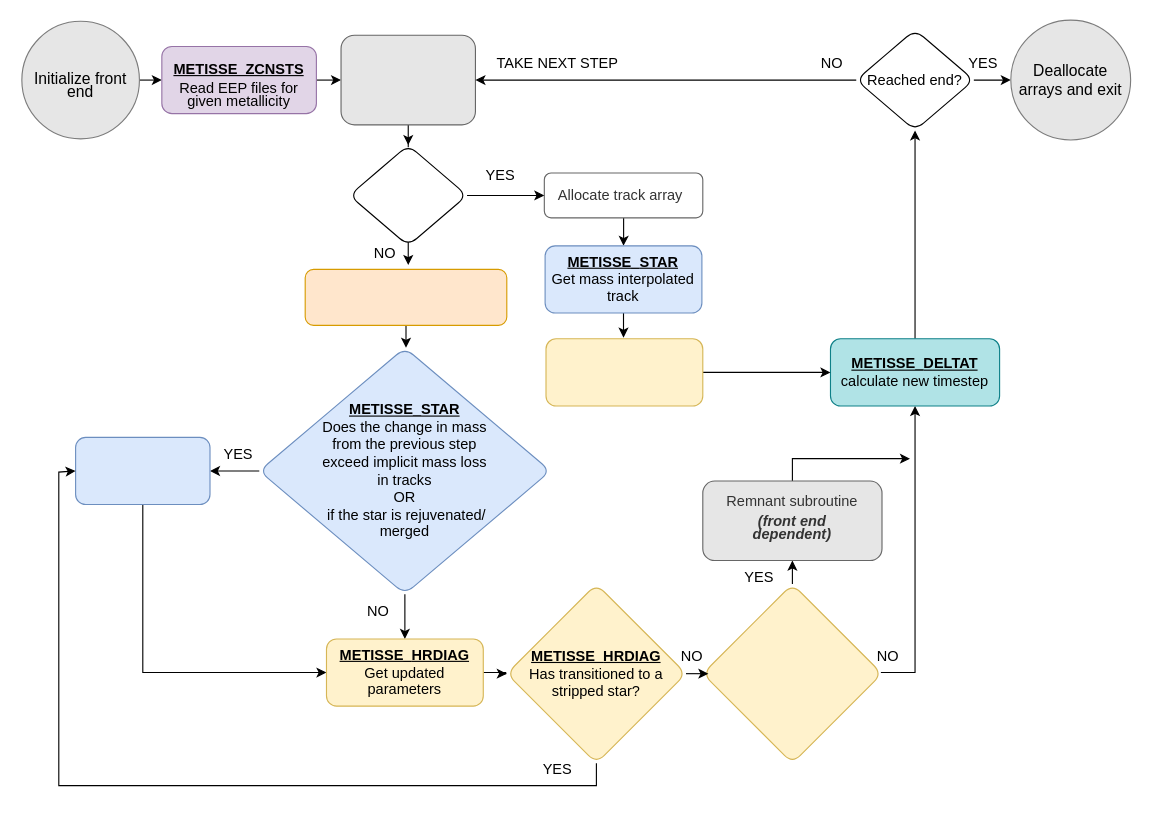
Image size: 1150x814. Some labels were removed from this diagram. The box of each missing label's shape, as (x1, y1, x2, y2) in pixels:
Evolve subroutine (front end dependent): (340, 34, 475, 125)
Initial Step?: (348, 144, 467, 246)
METISSE_ HRDIAG Get initial parameters: (545, 338, 703, 406)
METISSE_ HRDIAG Has reached the end of track/ is a remnant?: (702, 583, 882, 763)
METISSE_ MLWIND calculate wind mass loss rate: (304, 268, 507, 325)
METISSE_ STAR Get new track: (74, 436, 210, 505)
